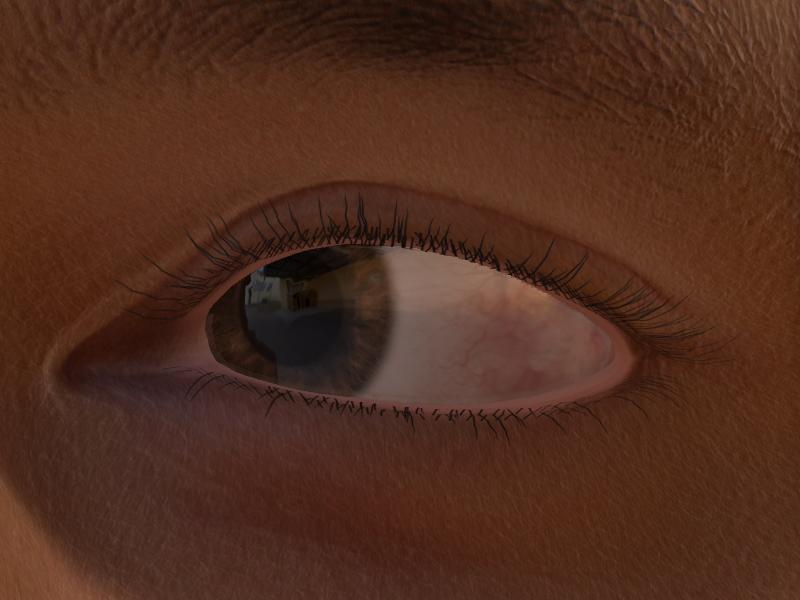eye: (202, 240, 396, 400)
